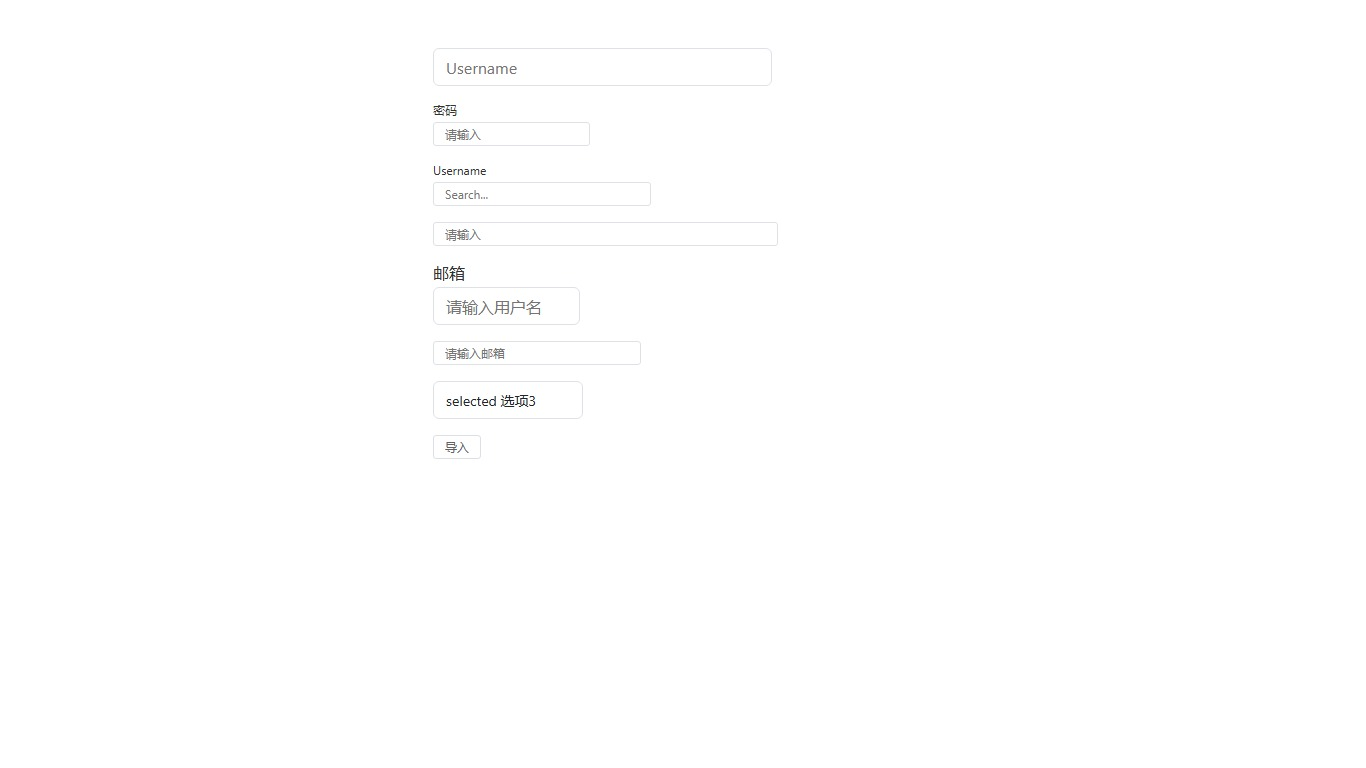button: (433, 435, 481, 459)
input: (433, 48, 772, 86), (433, 222, 778, 246), (433, 287, 580, 325), (433, 182, 651, 206), (433, 341, 641, 365), (433, 122, 590, 146)
select: (433, 381, 583, 419)
